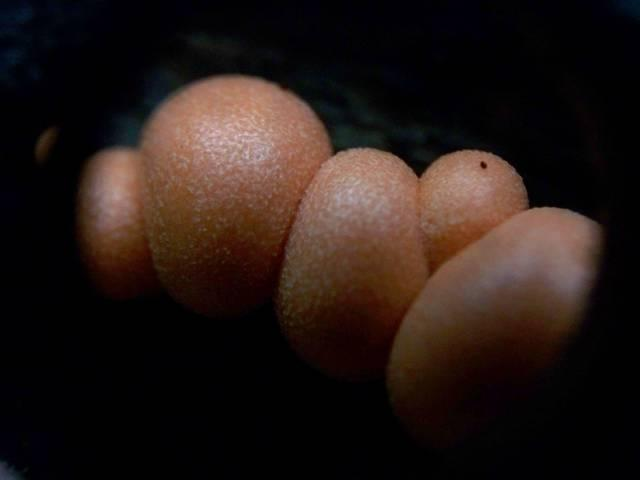Non-edible Mushroom: (74, 70, 606, 444), (383, 204, 604, 444), (137, 72, 333, 316), (273, 145, 429, 379), (416, 147, 529, 272), (74, 144, 157, 298)
